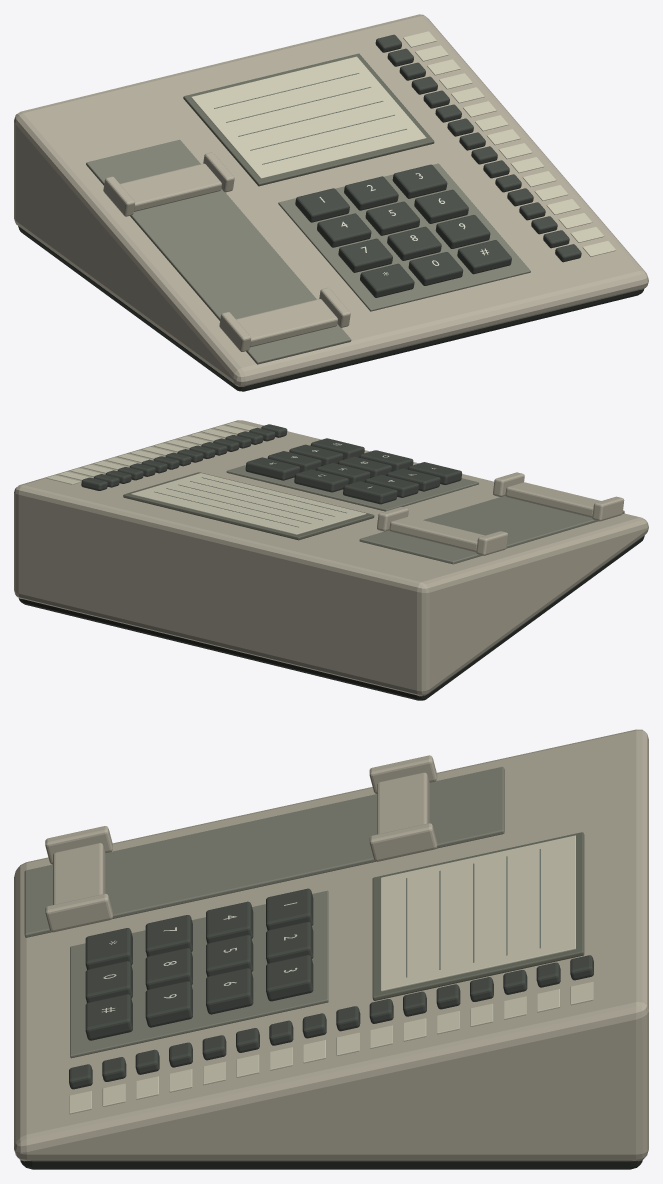
The model's file is phone-base.glb.
3 views of the same model, one above another, from view 1: azimuth 30°, elevation 25°; view 2: azimuth 150°, elevation 25°; view 3: azimuth 270°, elevation 25° (orthographic). The views are drawn at different scales.
Parts seen in each view (by area): view 1: Sloped moulded housing; view 2: Sloped moulded housing; view 3: Sloped moulded housing.
Boxes of the visible parts, bbox=[...] form: Sloped moulded housing: bbox=[14, 14, 648, 391]; Sloped moulded housing: bbox=[14, 420, 648, 700]; Sloped moulded housing: bbox=[14, 729, 648, 1169].
Size of the model in its own units: 0.4 by 0.1206 by 0.38.
